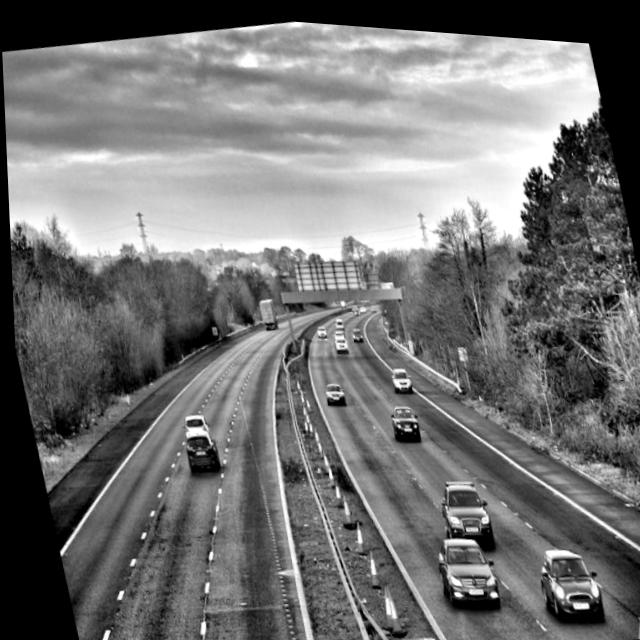cleat: (2, 17, 640, 640)
